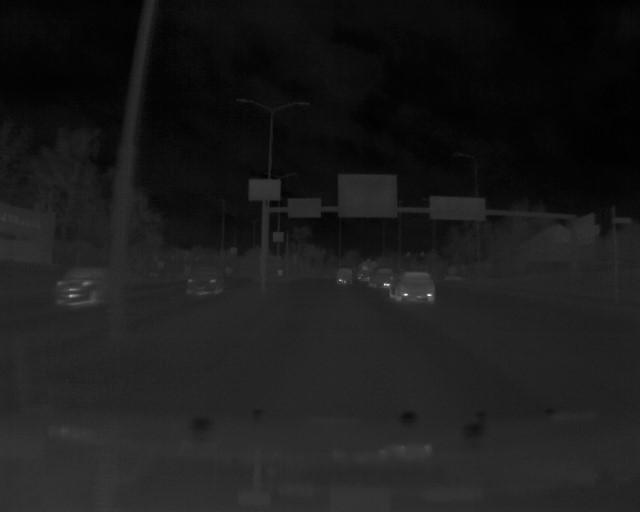car: (54, 266, 112, 306), (388, 270, 437, 303), (184, 262, 231, 296), (368, 268, 396, 288)
